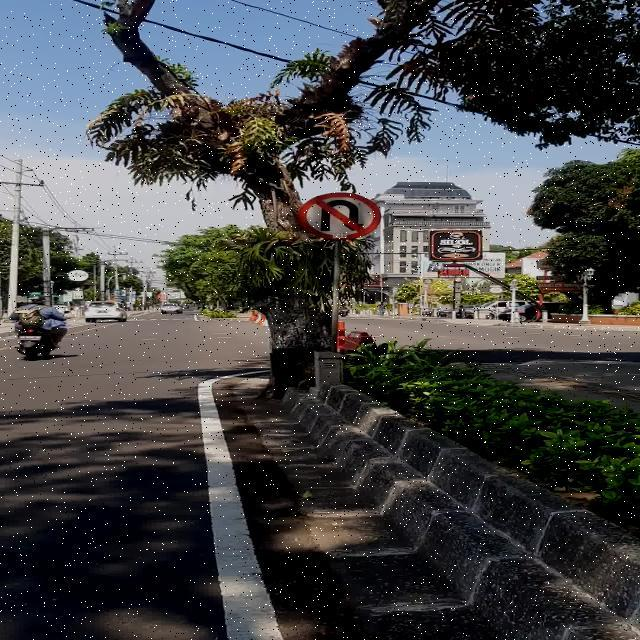Dilarang Putar Balik: (298, 192, 382, 240)
